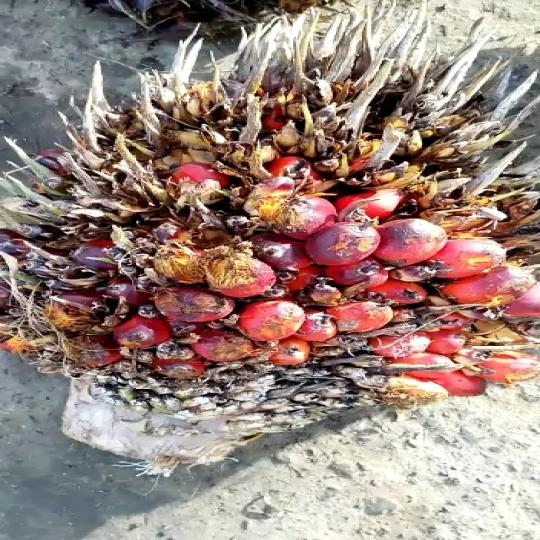terlalu masak: (0, 0, 540, 473)
